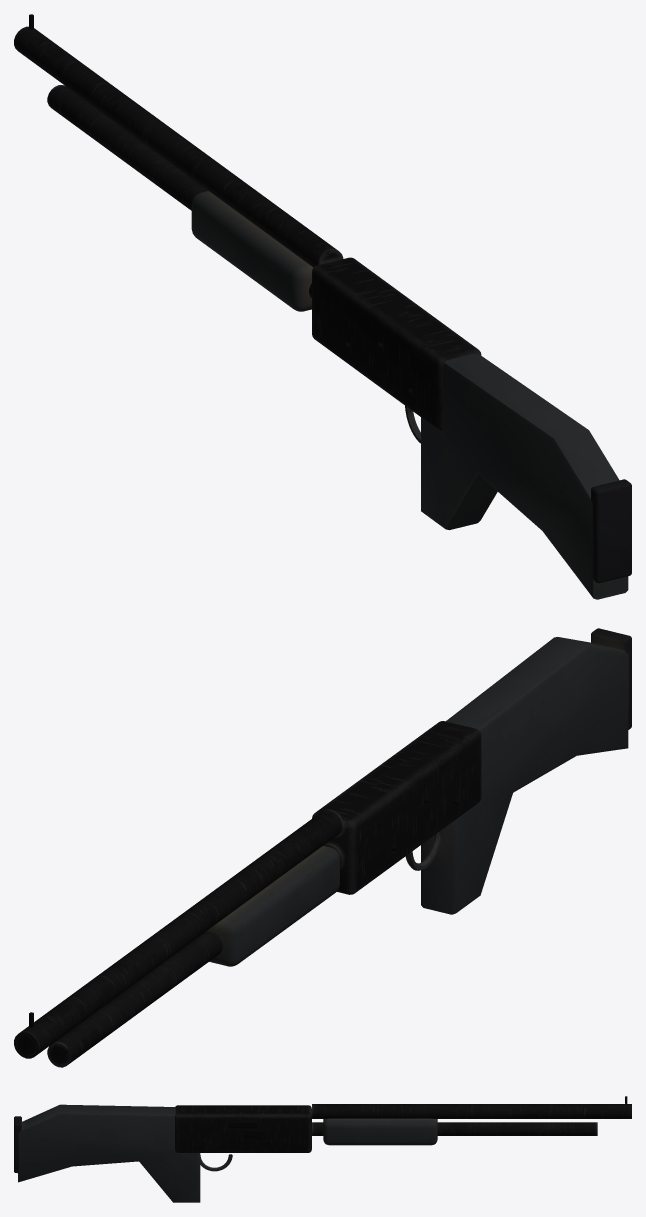
The picture shows the model from 3 angles, top to bottom: view 1: azimuth 30°, elevation 25°; view 2: azimuth 150°, elevation 25°; view 3: azimuth 270°, elevation 25°; orthographic projection. The views are drawn at different scales.
Parts seen in each view (by area): view 1: body_furniture, body_receiver, body_metal; view 2: body_receiver, body_furniture, body_metal; view 3: body_furniture, body_receiver, body_metal.
Boxes of the visible parts, x1,y1,x2,y2 form: body_furniture: [191, 191, 628, 599]; body_receiver: [14, 26, 481, 443]; body_metal: [29, 14, 631, 583]; body_receiver: [14, 721, 481, 1067]; body_furniture: [205, 637, 628, 966]; body_metal: [29, 628, 631, 1027]; body_furniture: [17, 1104, 437, 1202]; body_receiver: [175, 1104, 631, 1171]; body_metal: [14, 1096, 627, 1172].
Bounding box in the file's own units: 0.0551 × 0.198 × 1.08.
Materials: 3 (3 with a texture image).
